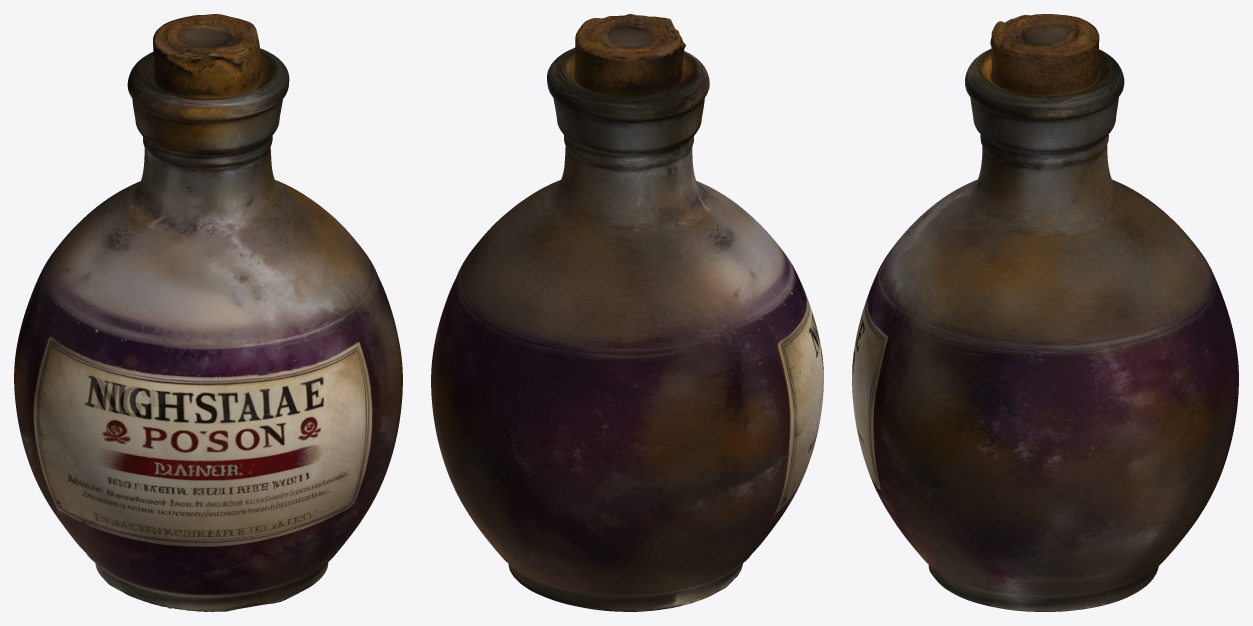
Rendered from pixellabs-glb-3821.high.glb.
3 renders of one model, left to right at view 1: azimuth 30°, elevation 25°; view 2: azimuth 150°, elevation 25°; view 3: azimuth 270°, elevation 25°, orthographic.
Visible parts, largest first — view 1: node_0; view 2: node_0; view 3: node_0.
Boxes of the visible parts, left/top/right/bottom form: node_0: left=14, top=14, right=402, bottom=611; node_0: left=431, top=14, right=823, bottom=611; node_0: left=852, top=14, right=1238, bottom=611.
Size of the model in its own units: 0.7402 by 1.12 by 0.7343.
1 material, 1 textured.
